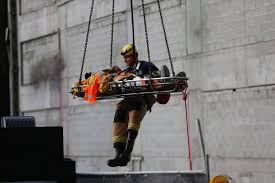hard hat: (120, 44, 140, 55)
